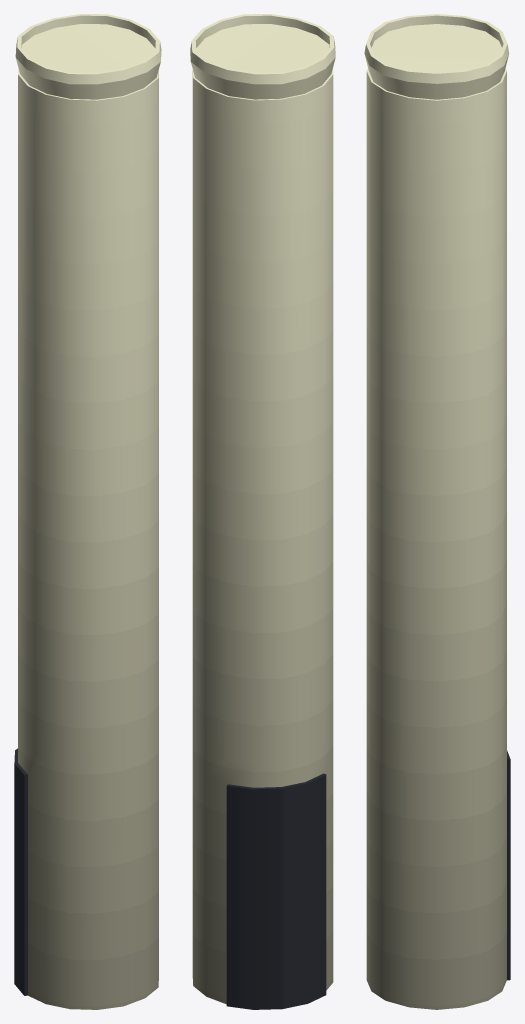
The model's file is SM_elevator_shaft.fbx.
The picture shows the model from 3 angles, left to right: view 1: azimuth 30°, elevation 25°; view 2: azimuth 150°, elevation 25°; view 3: azimuth 270°, elevation 25°; orthographic projection.
Visible parts, largest first — view 1: casing, door_l; view 2: casing, door_r, door_l; view 3: casing, door_r.
Boxes of the visible parts, <box> form: casing: <box>15,14,161,1009</box>; door_l: <box>14,750,27,995</box>; casing: <box>190,14,335,1004</box>; door_r: <box>226,784,282,1009</box>; door_l: <box>282,773,326,1008</box>; casing: <box>364,14,509,1009</box>; door_r: <box>507,750,510,980</box>.
Bounding box in the file's own units: 401 × 2836 × 401.
